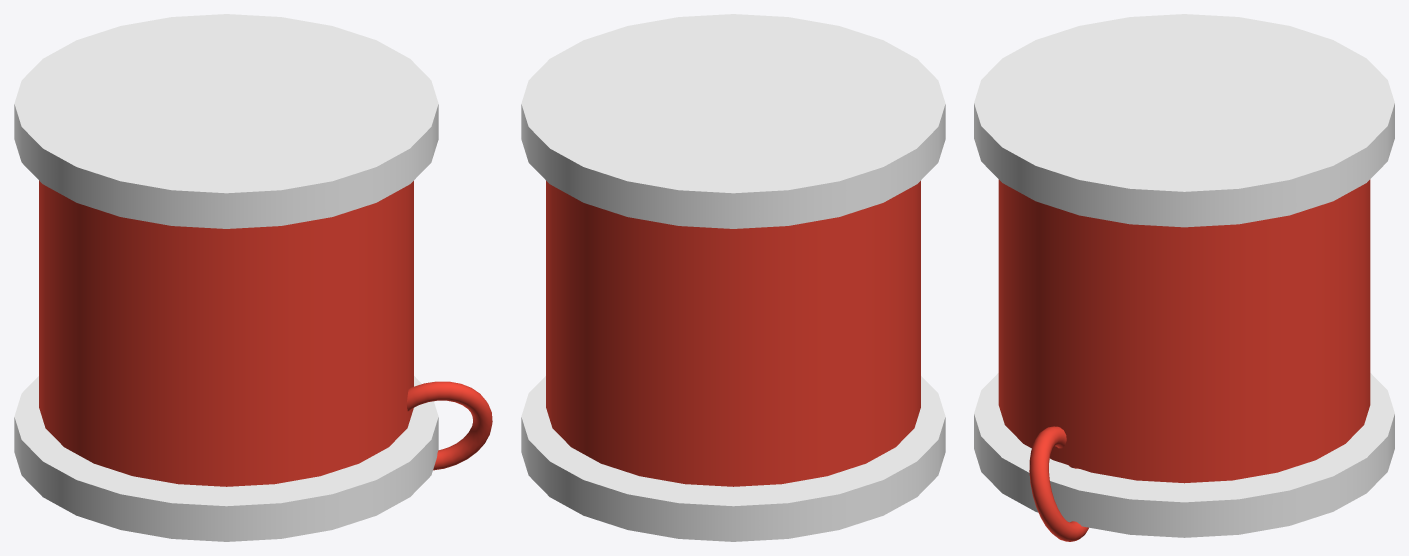
Rendered from carrete.glb.
The picture shows the model from 3 angles, left to right: view 1: azimuth 30°, elevation 25°; view 2: azimuth 150°, elevation 25°; view 3: azimuth 270°, elevation 25°; orthographic projection.
Visible parts, largest first — view 1: Disco (×2), Hilo [hilo], Cabo; view 2: Disco (×2), Hilo [hilo]; view 3: Disco (×2), Hilo [hilo], Cabo.
Boxes of the visible parts, x1,y1,x2,y2 form: Disco (×2): [14, 14, 438, 541]; Hilo [hilo]: [39, 180, 413, 486]; Cabo: [406, 381, 492, 470]; Disco (×2): [521, 14, 945, 541]; Hilo [hilo]: [546, 181, 920, 486]; Disco (×2): [974, 14, 1394, 537]; Hilo [hilo]: [998, 179, 1370, 483]; Cabo: [1029, 426, 1088, 541].
Size of the model in its own units: 0.8857 by 0.8137 by 0.86.
